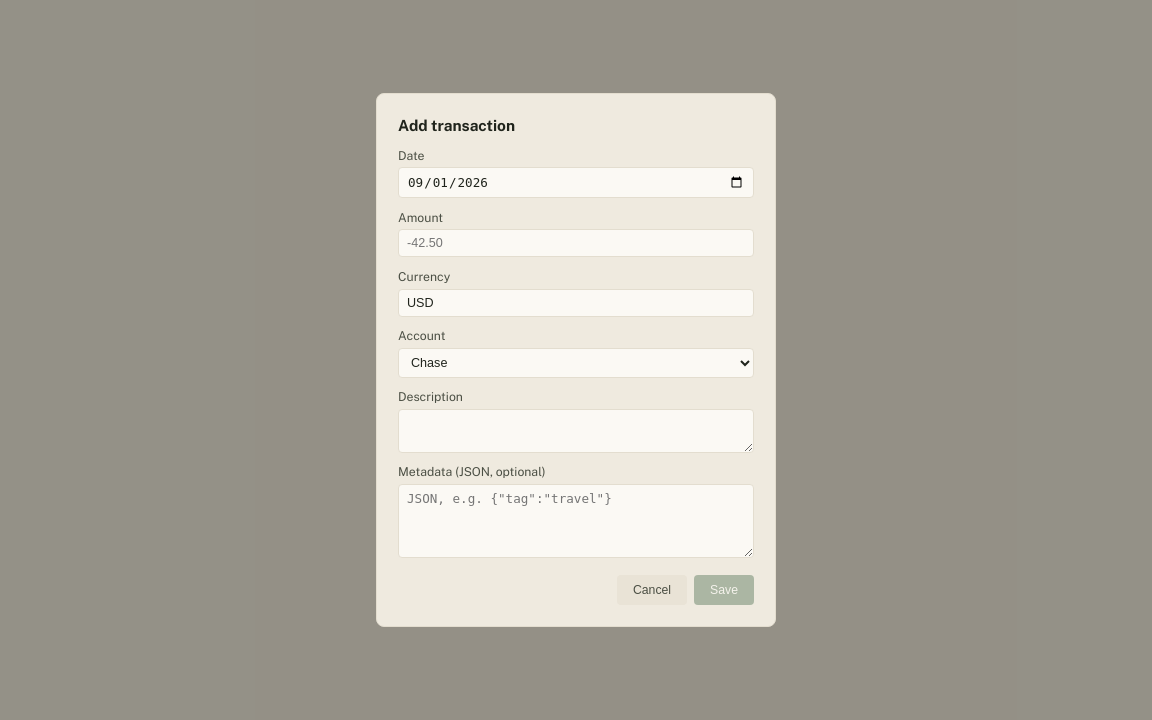
Test: MintTransactionDialog › disables Save when amount is invalid
This screenshot has width=1152, height=720.
Expected: the button "Save" is disabled, [694,576,754,606]
Fill description so only amount is the failing field.
Type "Coffee" into the text box labelled "Description" at [576, 431], box [398,409,754,453]
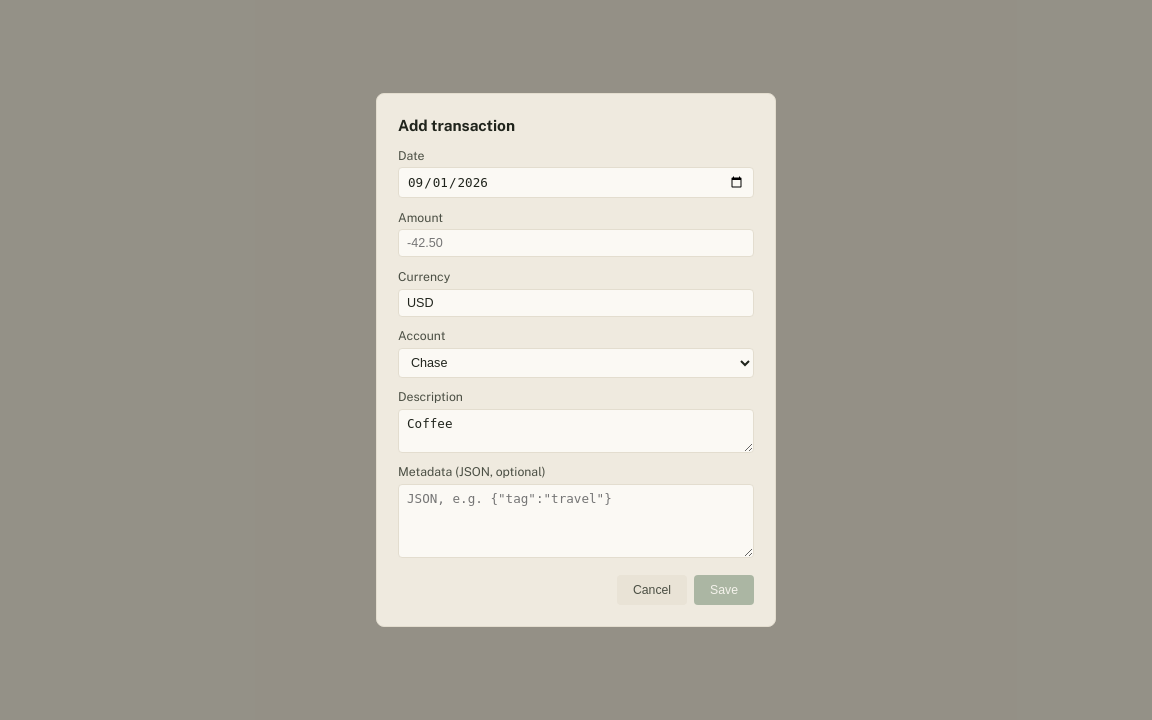
Type "not a number" into the field labelled "Amount" at [576, 243], box [398,229,754,257]
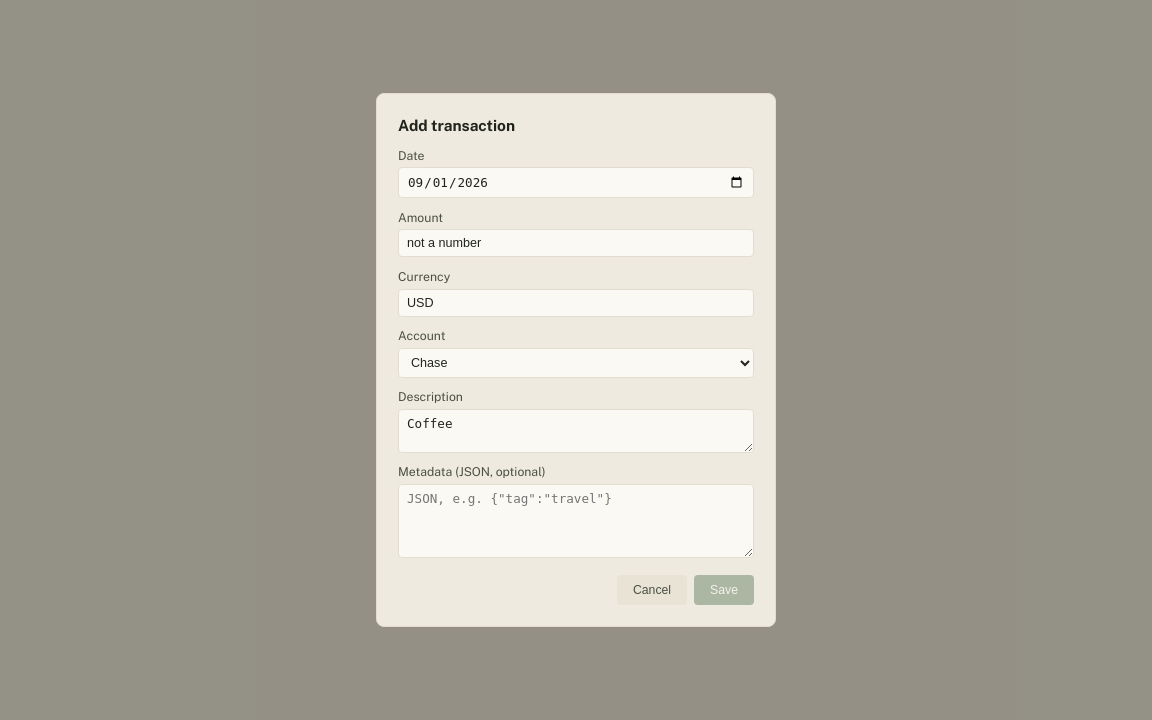
Expected: the button "Save" is disabled, [694,576,754,606]
Fix amount — Save should now be enabled.
Replace the text in the field labelled "Amount" with "-42.50" at [576, 243], box [398,229,754,257]
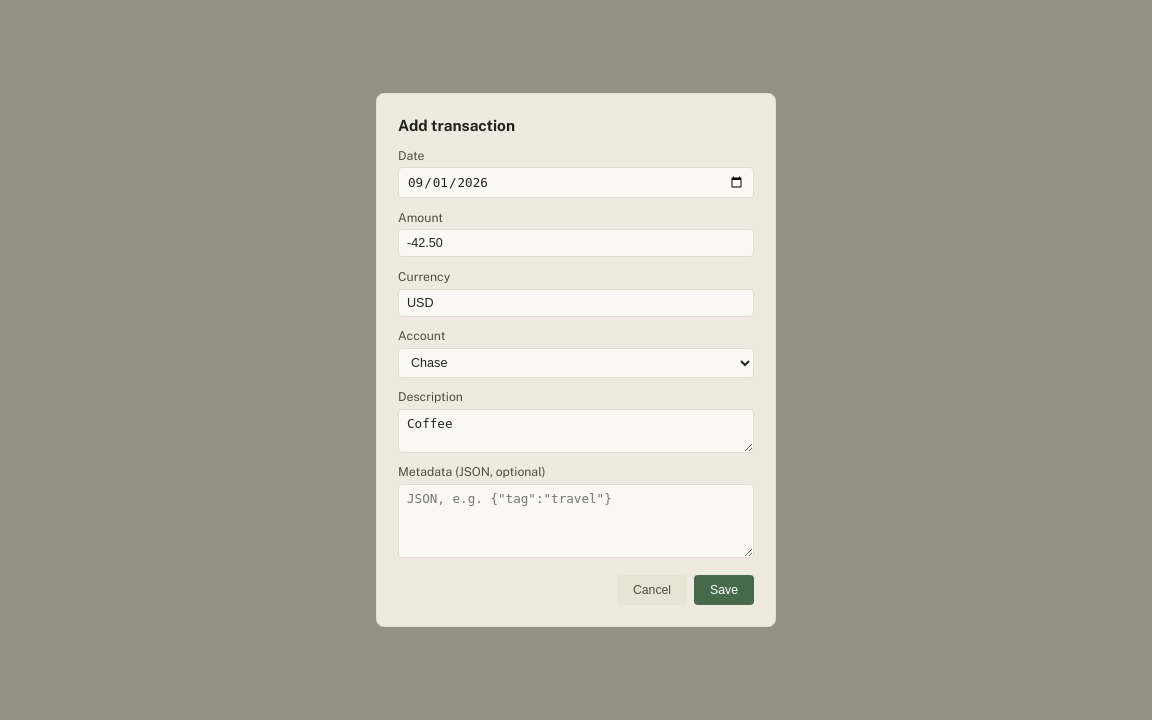
Now the button "Save" is enabled, box [694,576,754,606]
